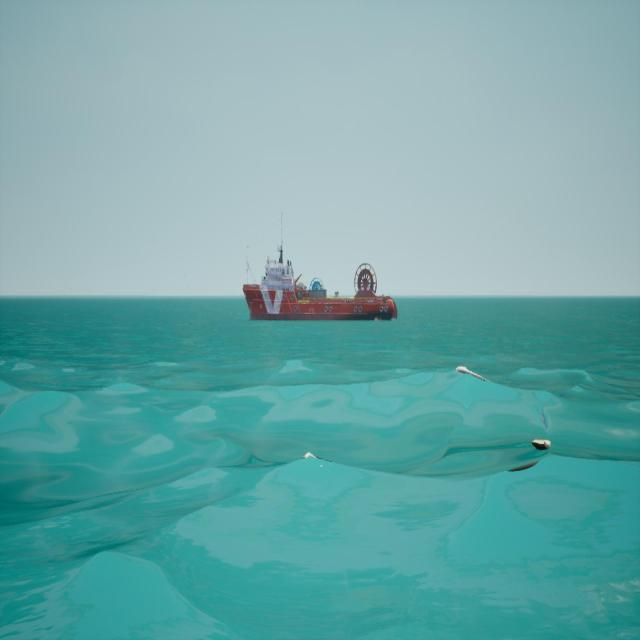tug boat: (242, 213, 397, 326)
